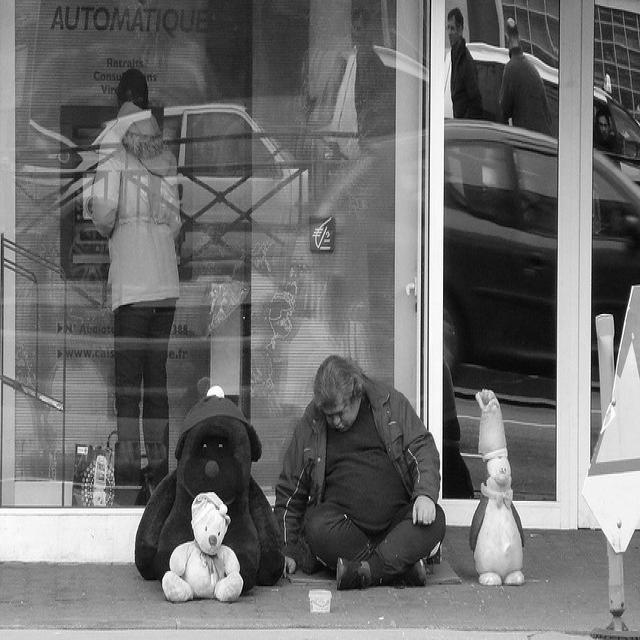monkey: (274, 355, 449, 596), (91, 64, 183, 499)
